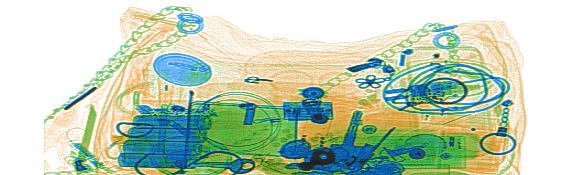battery: (116, 100, 217, 171)
plasticBottleWithaNozzle: (109, 57, 157, 150)
